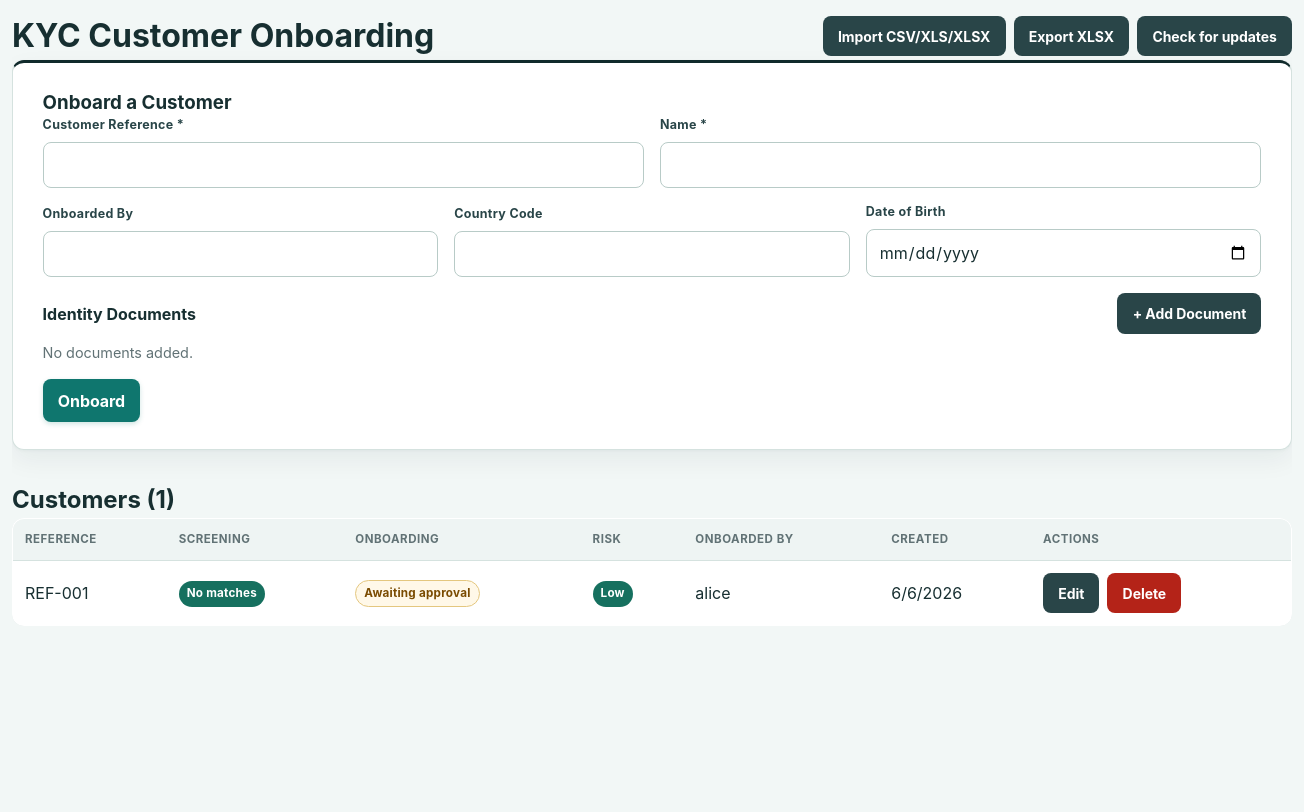
Test: CustomersPage › action error surfaces › surfaces a status-change failure
expect the text "REF-001" is shown: met, box [12,561,167,626]
Click the button with aria-label "Edit REF-001": click(1071, 593) [1043,573,1100,613]
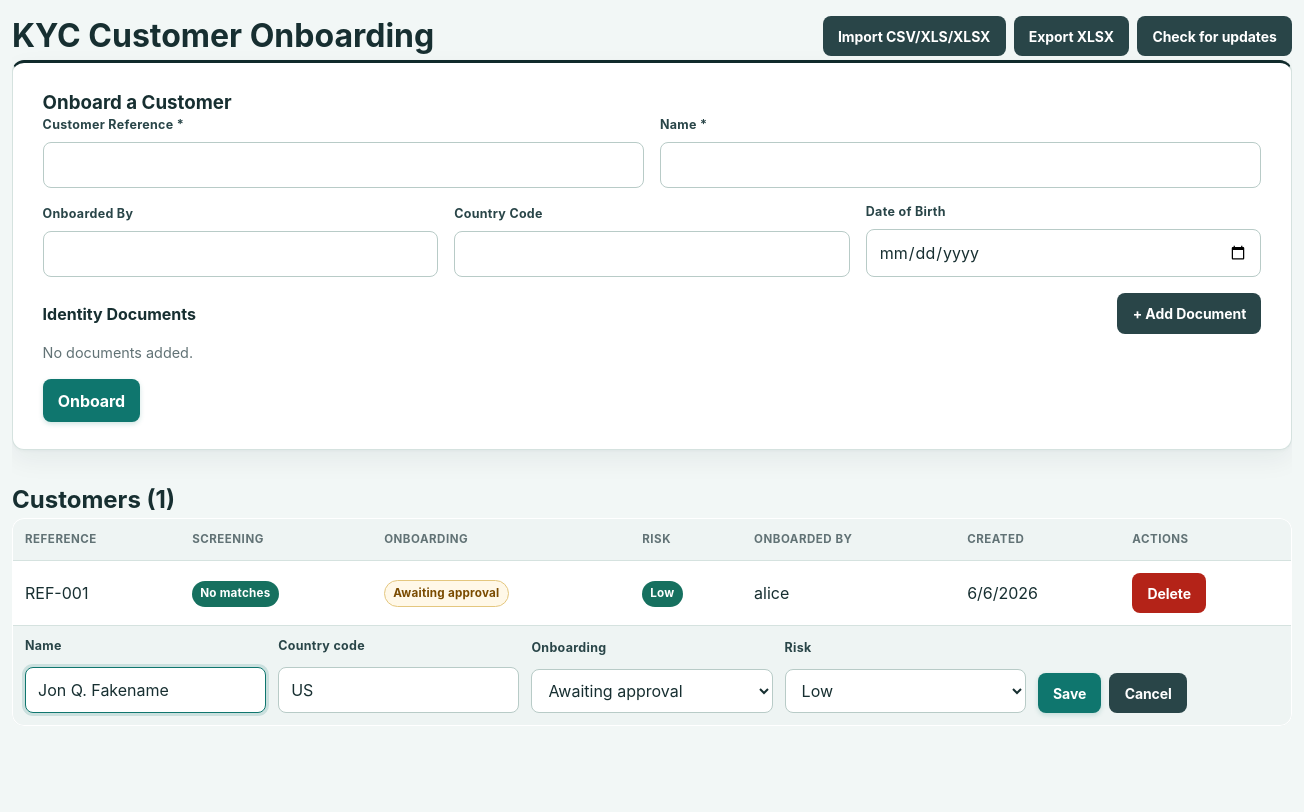
Select "Approved" in the dropdown named "status for REF-001": (652, 691) [531,668,773,713]
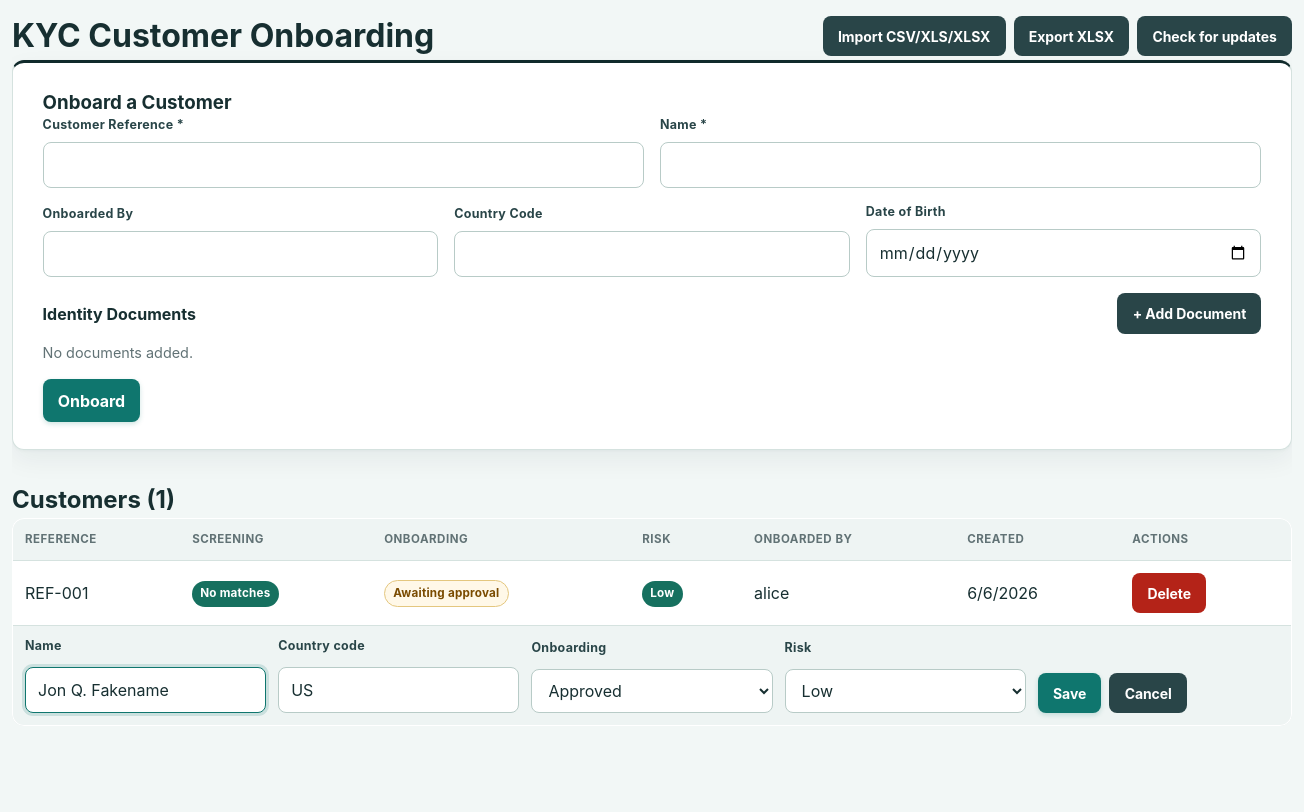
Click the button "Save": click(1070, 693) [1038,673,1101,713]
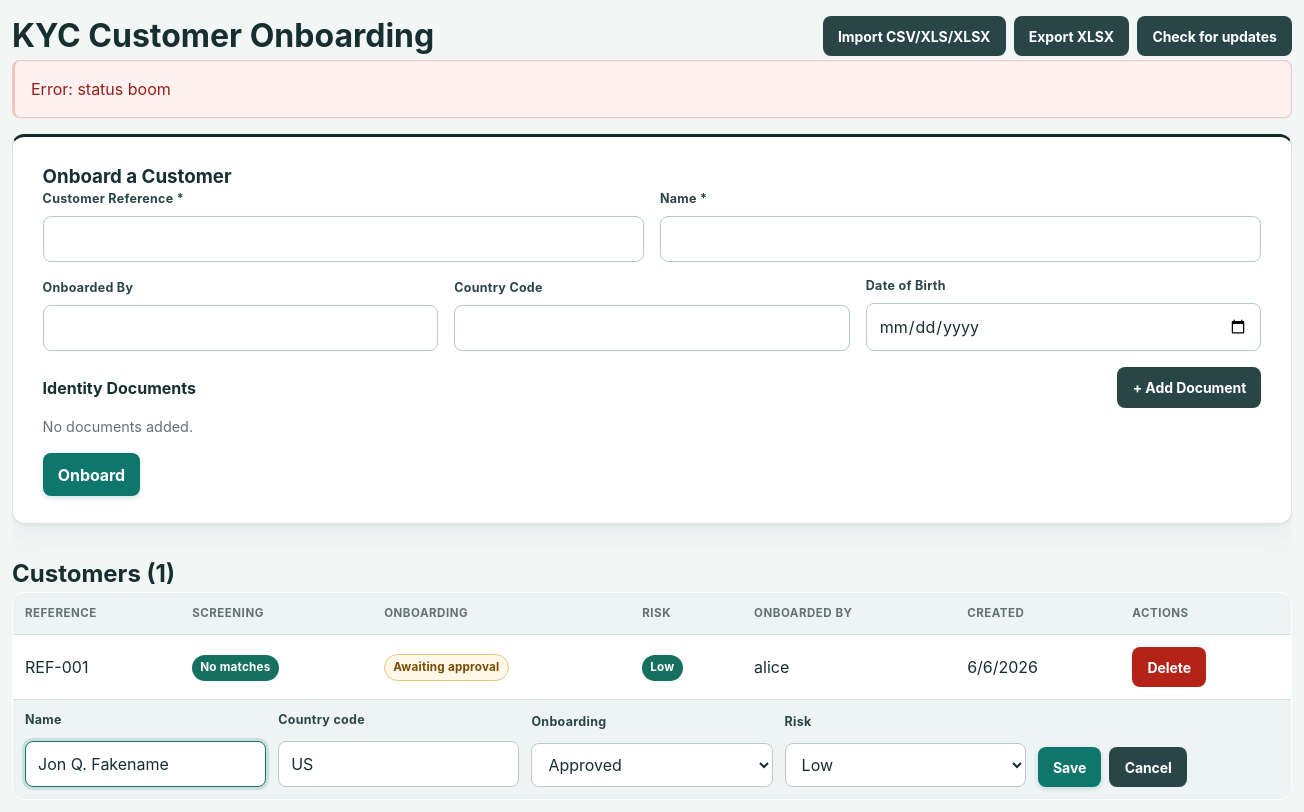
expect the text "Error: status boom" is shown: met, box [12,60,1292,118]
